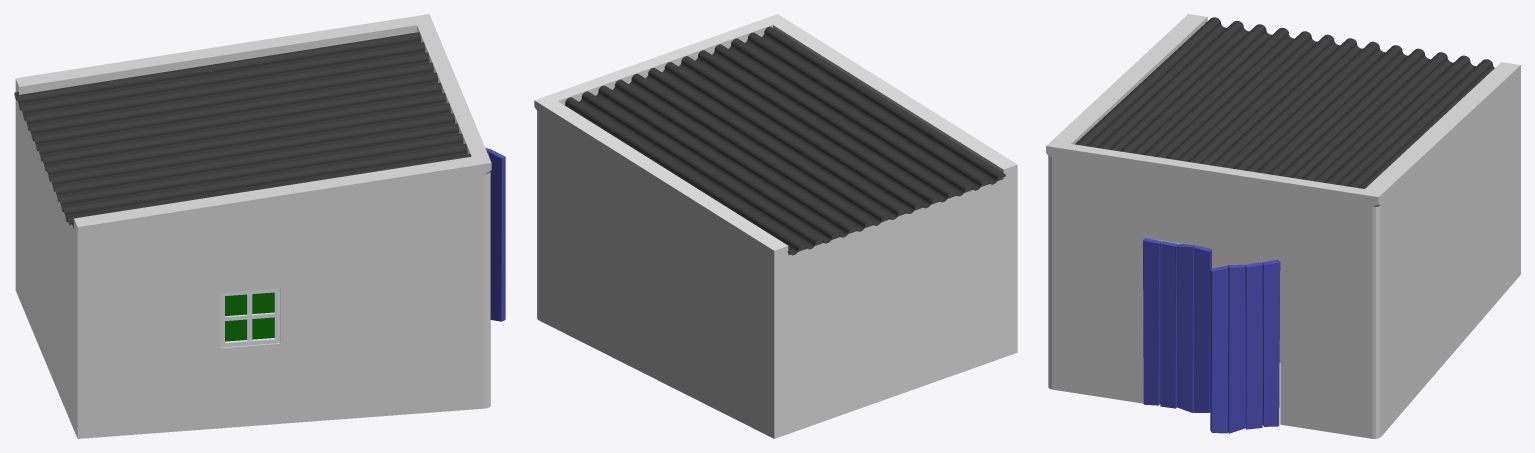
The model's file is M_018.Boat Shed.fbx.
3 renders of one model, left to right at view 1: azimuth 30°, elevation 25°; view 2: azimuth 150°, elevation 25°; view 3: azimuth 270°, elevation 25°, orthographic. The views are drawn at different scales.
Parts seen in each view (by area): view 1: Cube; view 2: Cube; view 3: Cube.
Boxes of the visible parts, left/top/right/bottom form: Cube: left=14, top=14, right=505, bottom=438; Cube: left=534, top=14, right=1017, bottom=438; Cube: left=1046, top=14, right=1520, bottom=438.
Size of the model in its own units: 1696 by 888 by 1573.
